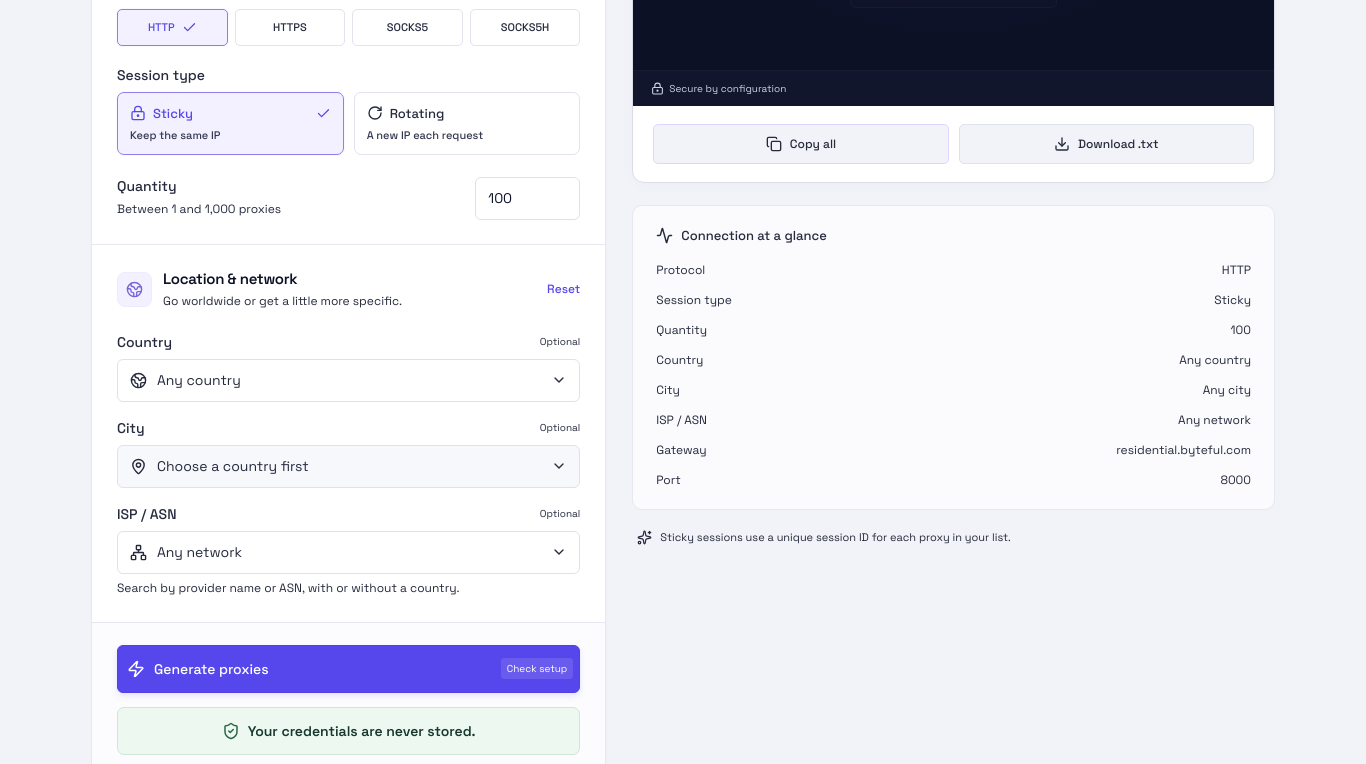
Test case: generator user flow › uses A–Z sorting automatically without a sort control
(page scrolled)
Click the button "Any country". click: {"x": 199, "y": 380}
box: [117,359,580,402]
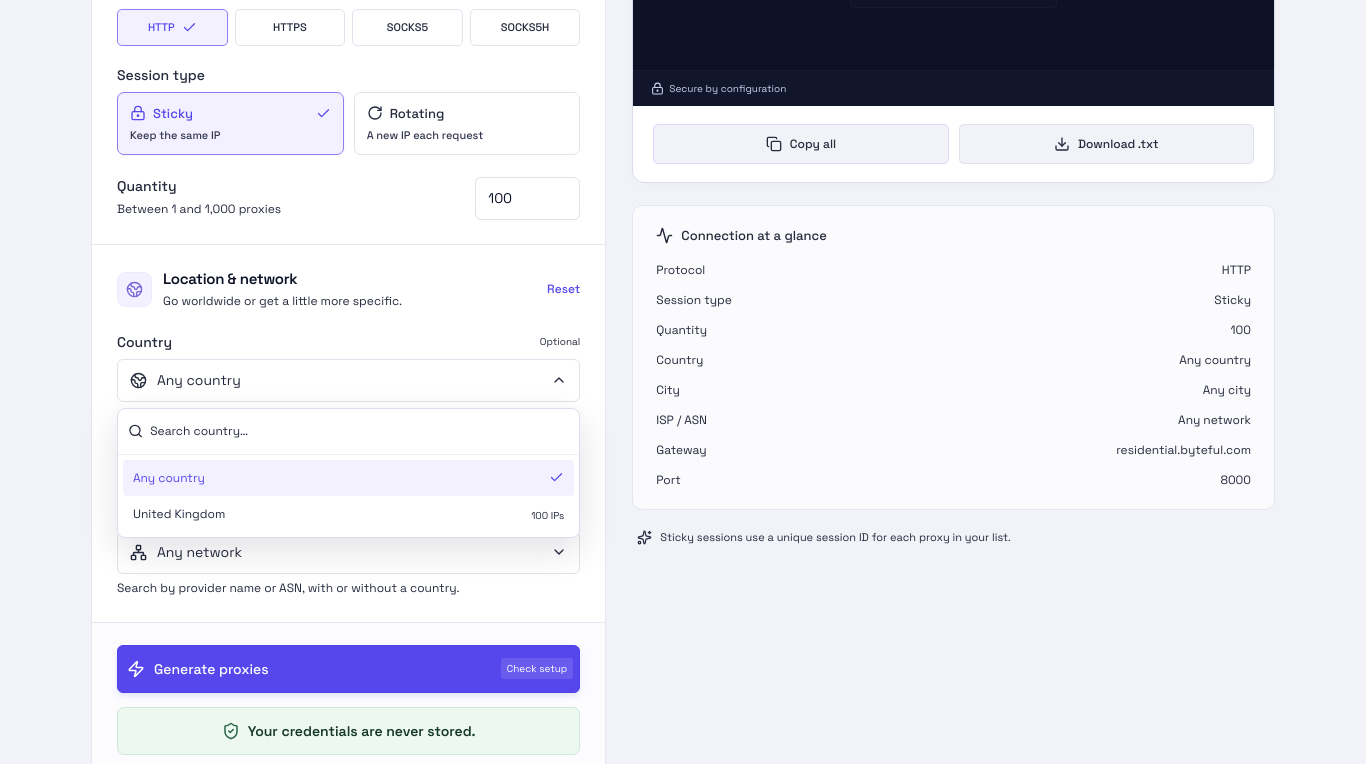
Result: the option "United Kingdom 100 IPs" is shown at [123,496,574,532]
